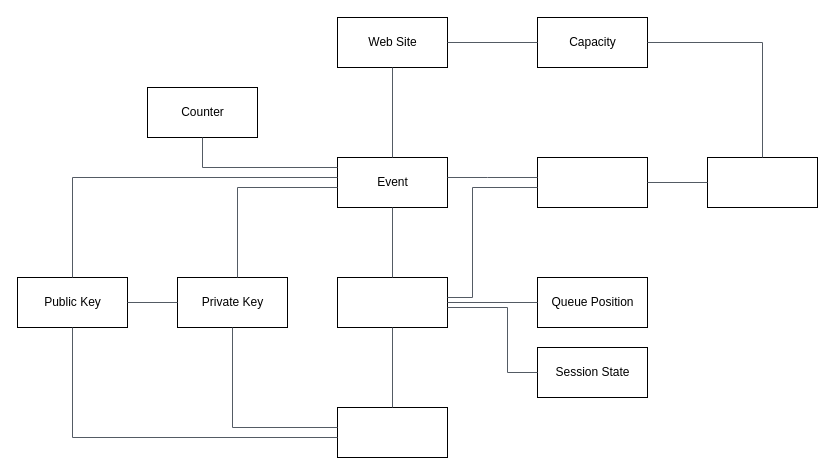
This 835x475 diagram has some shape labels left out. The shapes that lost their labels are listed below. From the top down, each one's centre as x and y in pixels, then its label:
At point 592,182: "Waiting Room Queue".
At point 762,182: "Serving Position".
At point 392,302: "Request".
At point 392,432: "Access Token".
